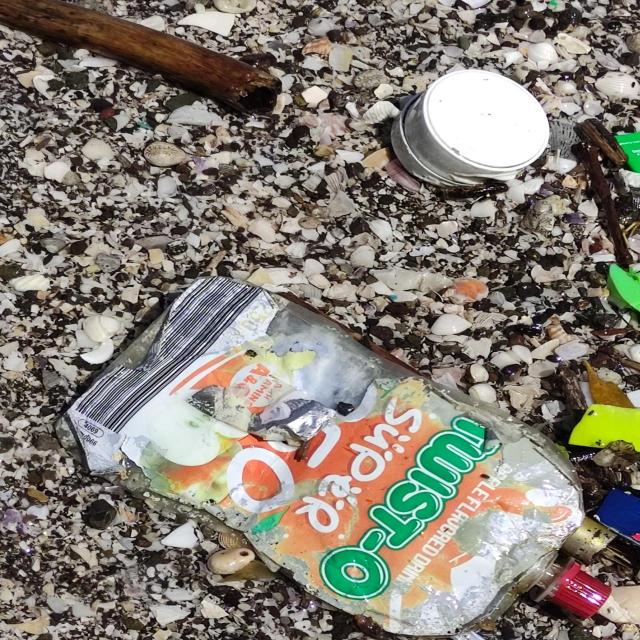litter: (63, 274, 614, 636), (384, 66, 548, 184)
